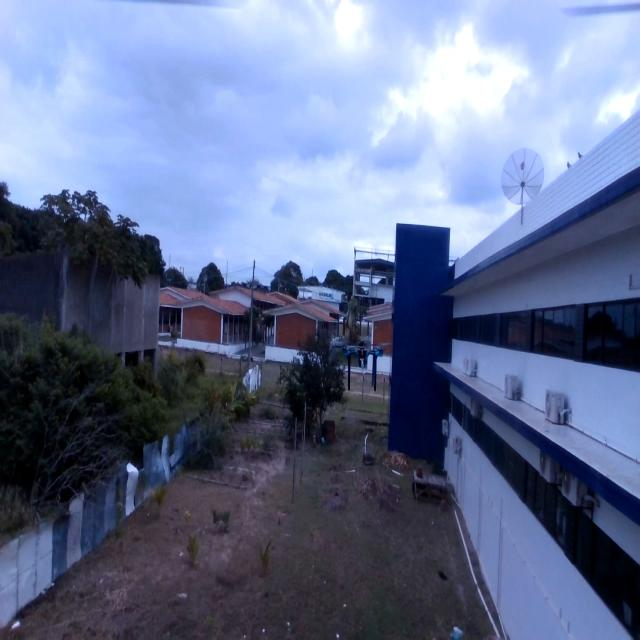-uav-: (335, 338, 401, 403)
